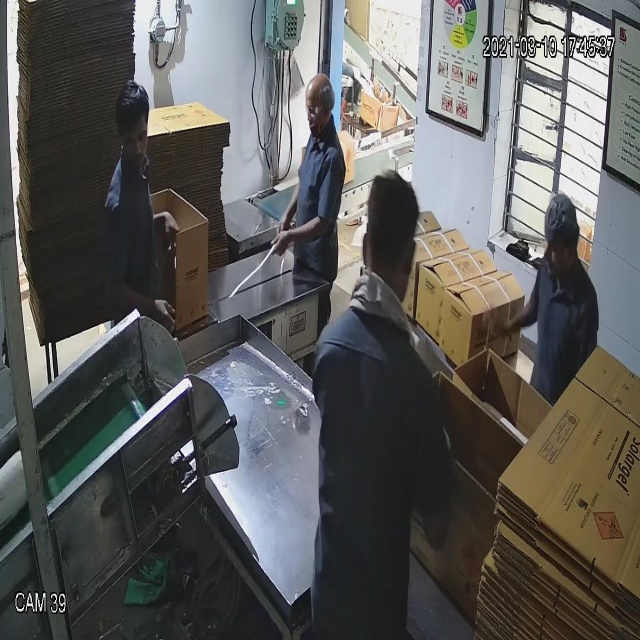Sin_guantes: (107, 255, 183, 338), (265, 214, 335, 274), (483, 282, 539, 345), (269, 177, 299, 243)
